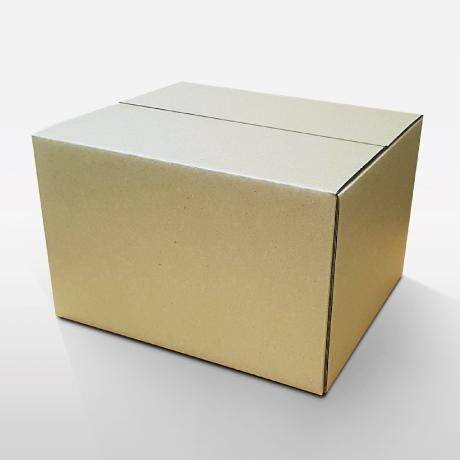box: (26, 78, 424, 395)
